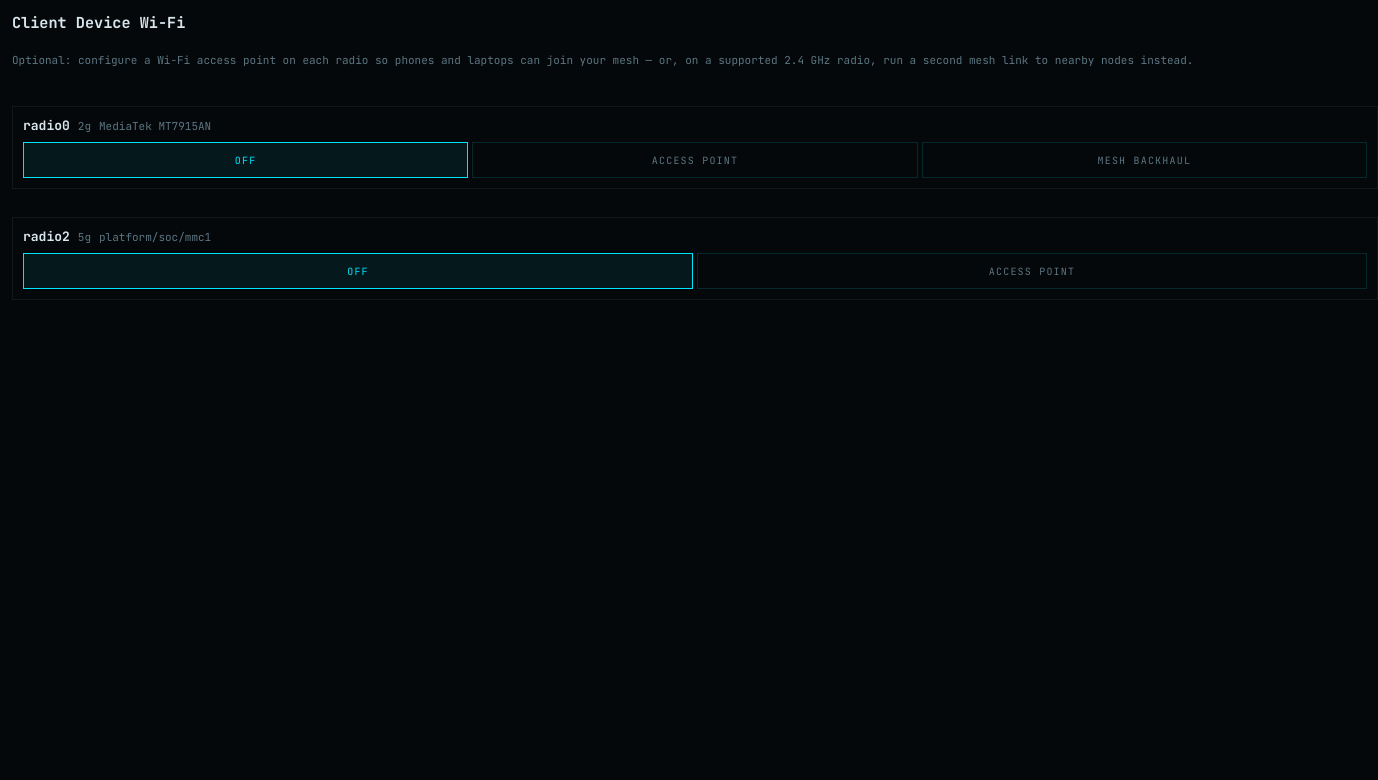
Scenario: StepAPsRadioMode › switching back to Access point restores the AP form and drops the backhaul fields
Step 1. Click the radio button labelled "Mesh backhaul" → {"x": 1144, "y": 160}, box [922,142,1367,178]
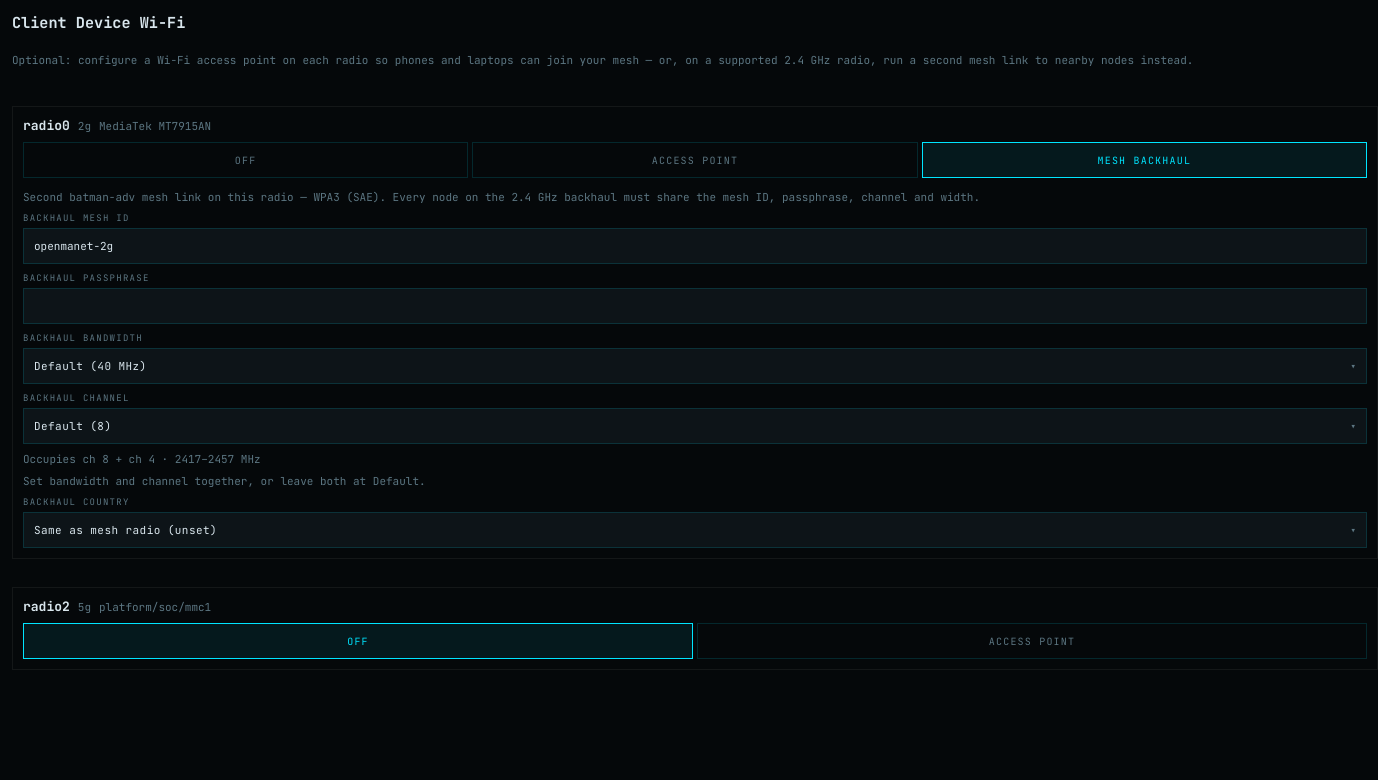
Step 2. Click the 1st radio button labelled "Access point" → {"x": 695, "y": 160}, box [472,142,918,178]
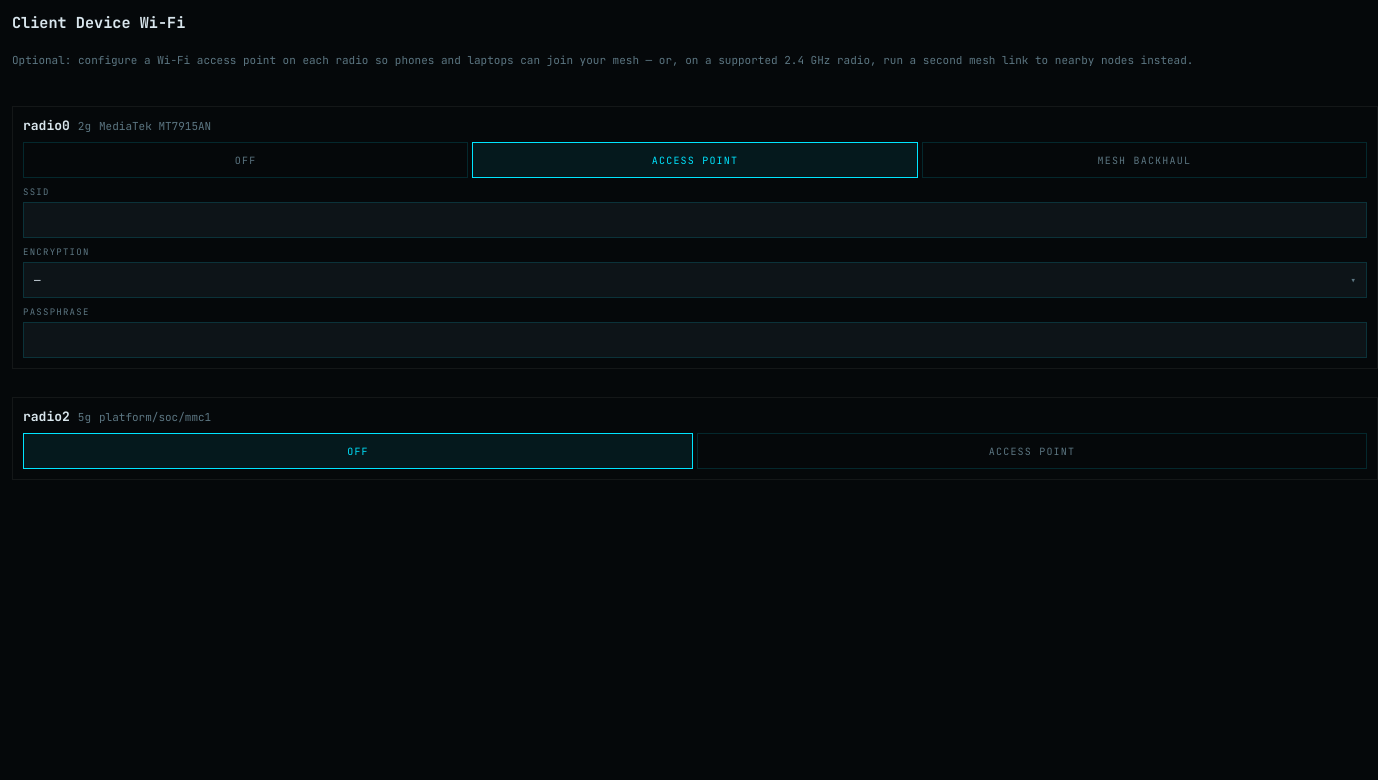
Expected: the field labelled "SSID" is shown, [23,202,1367,238]
Expected: the label labelled "Backhaul mesh ID" is gone
